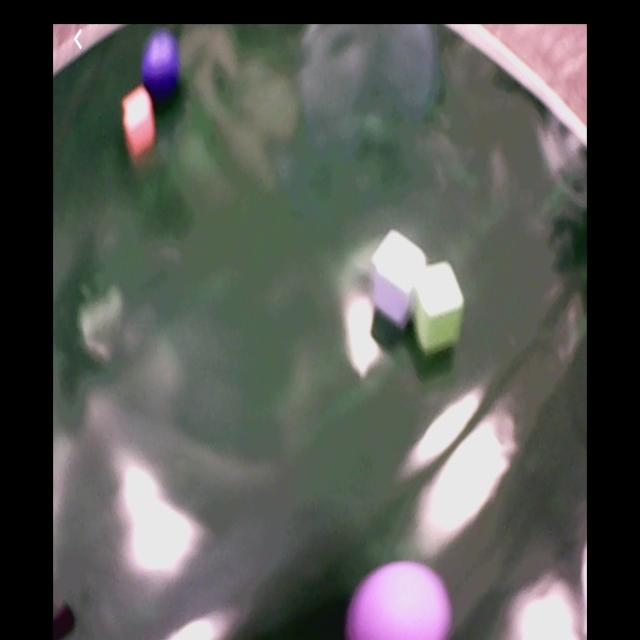ball: (348, 559, 451, 640), (143, 31, 179, 102)
